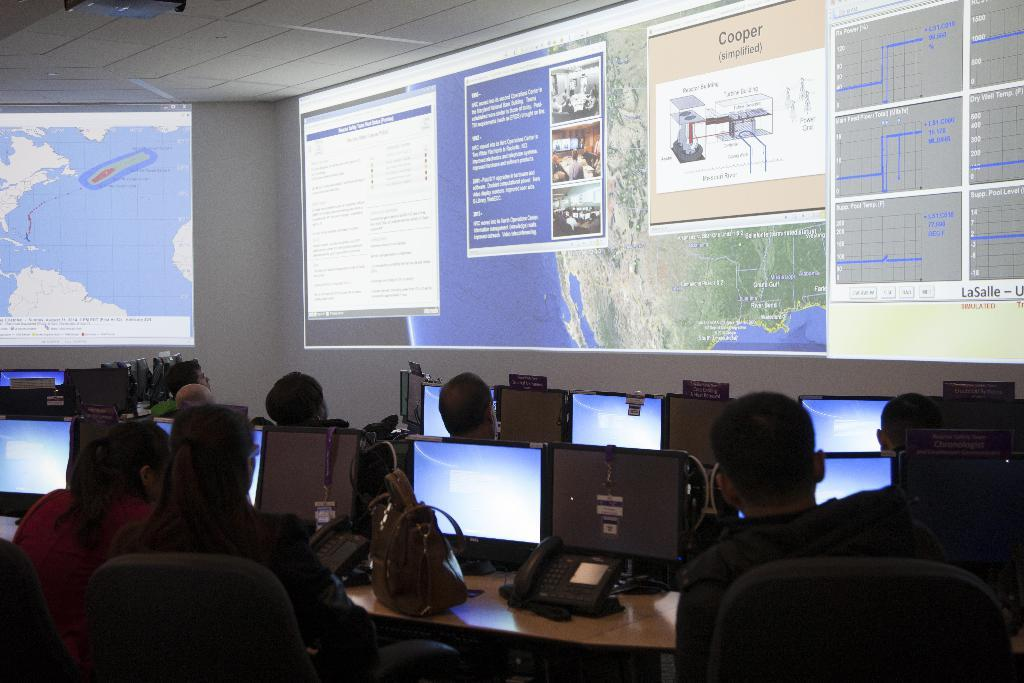Computer-monitor: (541, 450, 686, 595), (403, 435, 551, 574), (899, 454, 1023, 557), (732, 456, 893, 525), (154, 413, 269, 508), (269, 428, 366, 529), (0, 411, 81, 524), (661, 391, 742, 469), (575, 385, 670, 450), (795, 393, 896, 451), (495, 386, 570, 443), (925, 394, 1023, 432), (421, 388, 496, 436), (60, 366, 131, 411), (81, 413, 124, 457), (0, 366, 65, 386), (406, 365, 424, 434), (152, 352, 175, 403), (115, 359, 138, 399), (135, 358, 154, 399), (397, 365, 410, 424), (168, 349, 184, 368), (422, 374, 436, 386)
